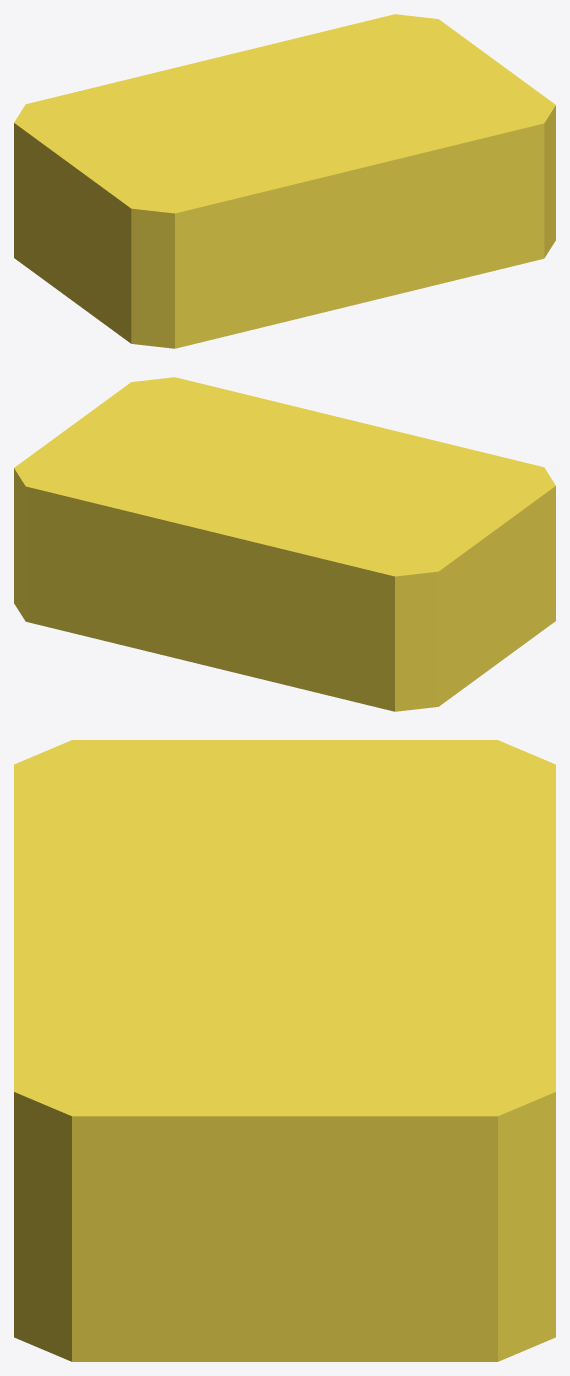
File: gold.glb
3 renders of one model, top to bottom at view 1: azimuth 30°, elevation 25°; view 2: azimuth 150°, elevation 25°; view 3: azimuth 270°, elevation 25°, orthographic. The views are drawn at different scales.
Size of the model in its own units: 0.25 by 0.0761 by 0.1522.
